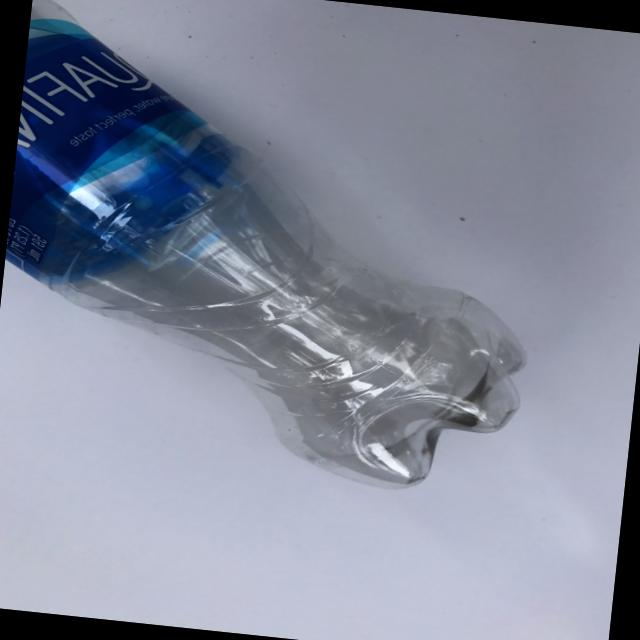Plastic: (0, 0, 629, 531)
